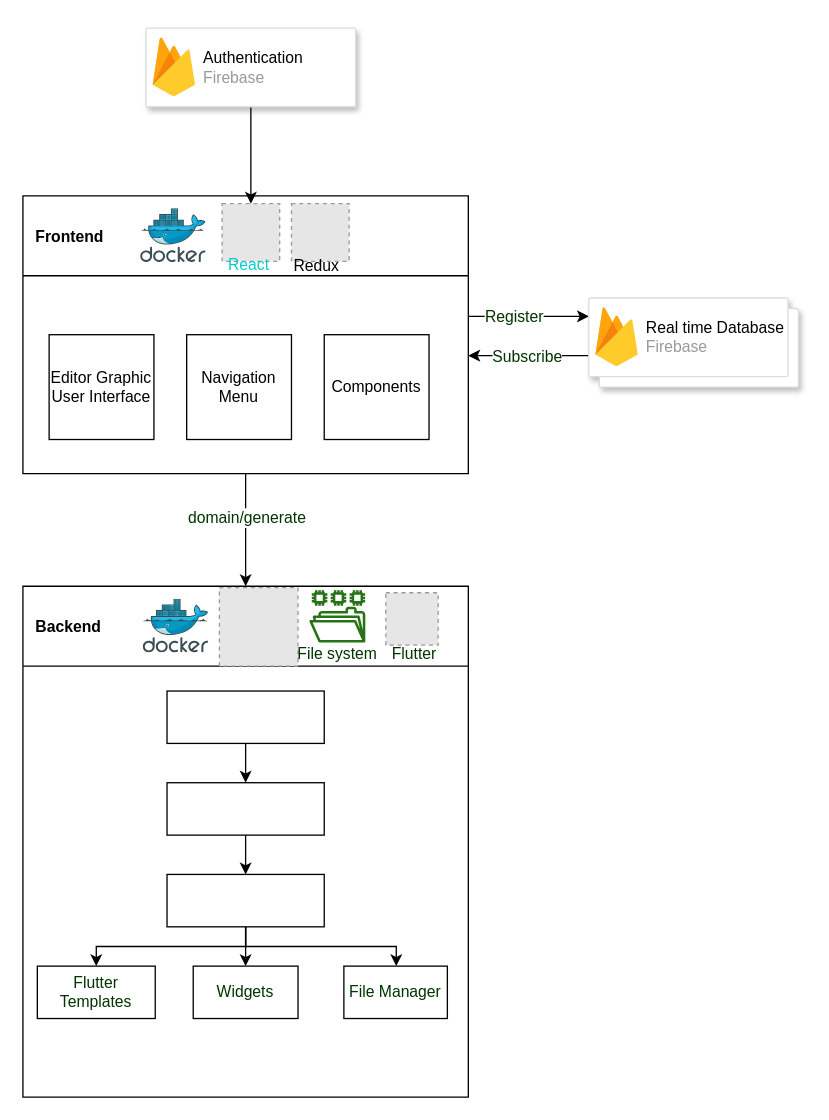
Some shapes in this 829 by 1120 pixel diagram are drawn without their labels. Grey dashed boxes stand in for pictures. The shapes that lost their labels are listed below. From the top down, each one's centre as x and y in pixels, then its label:
point (245, 716): Router
point (245, 808): Controller
point (245, 900): Tree generator
